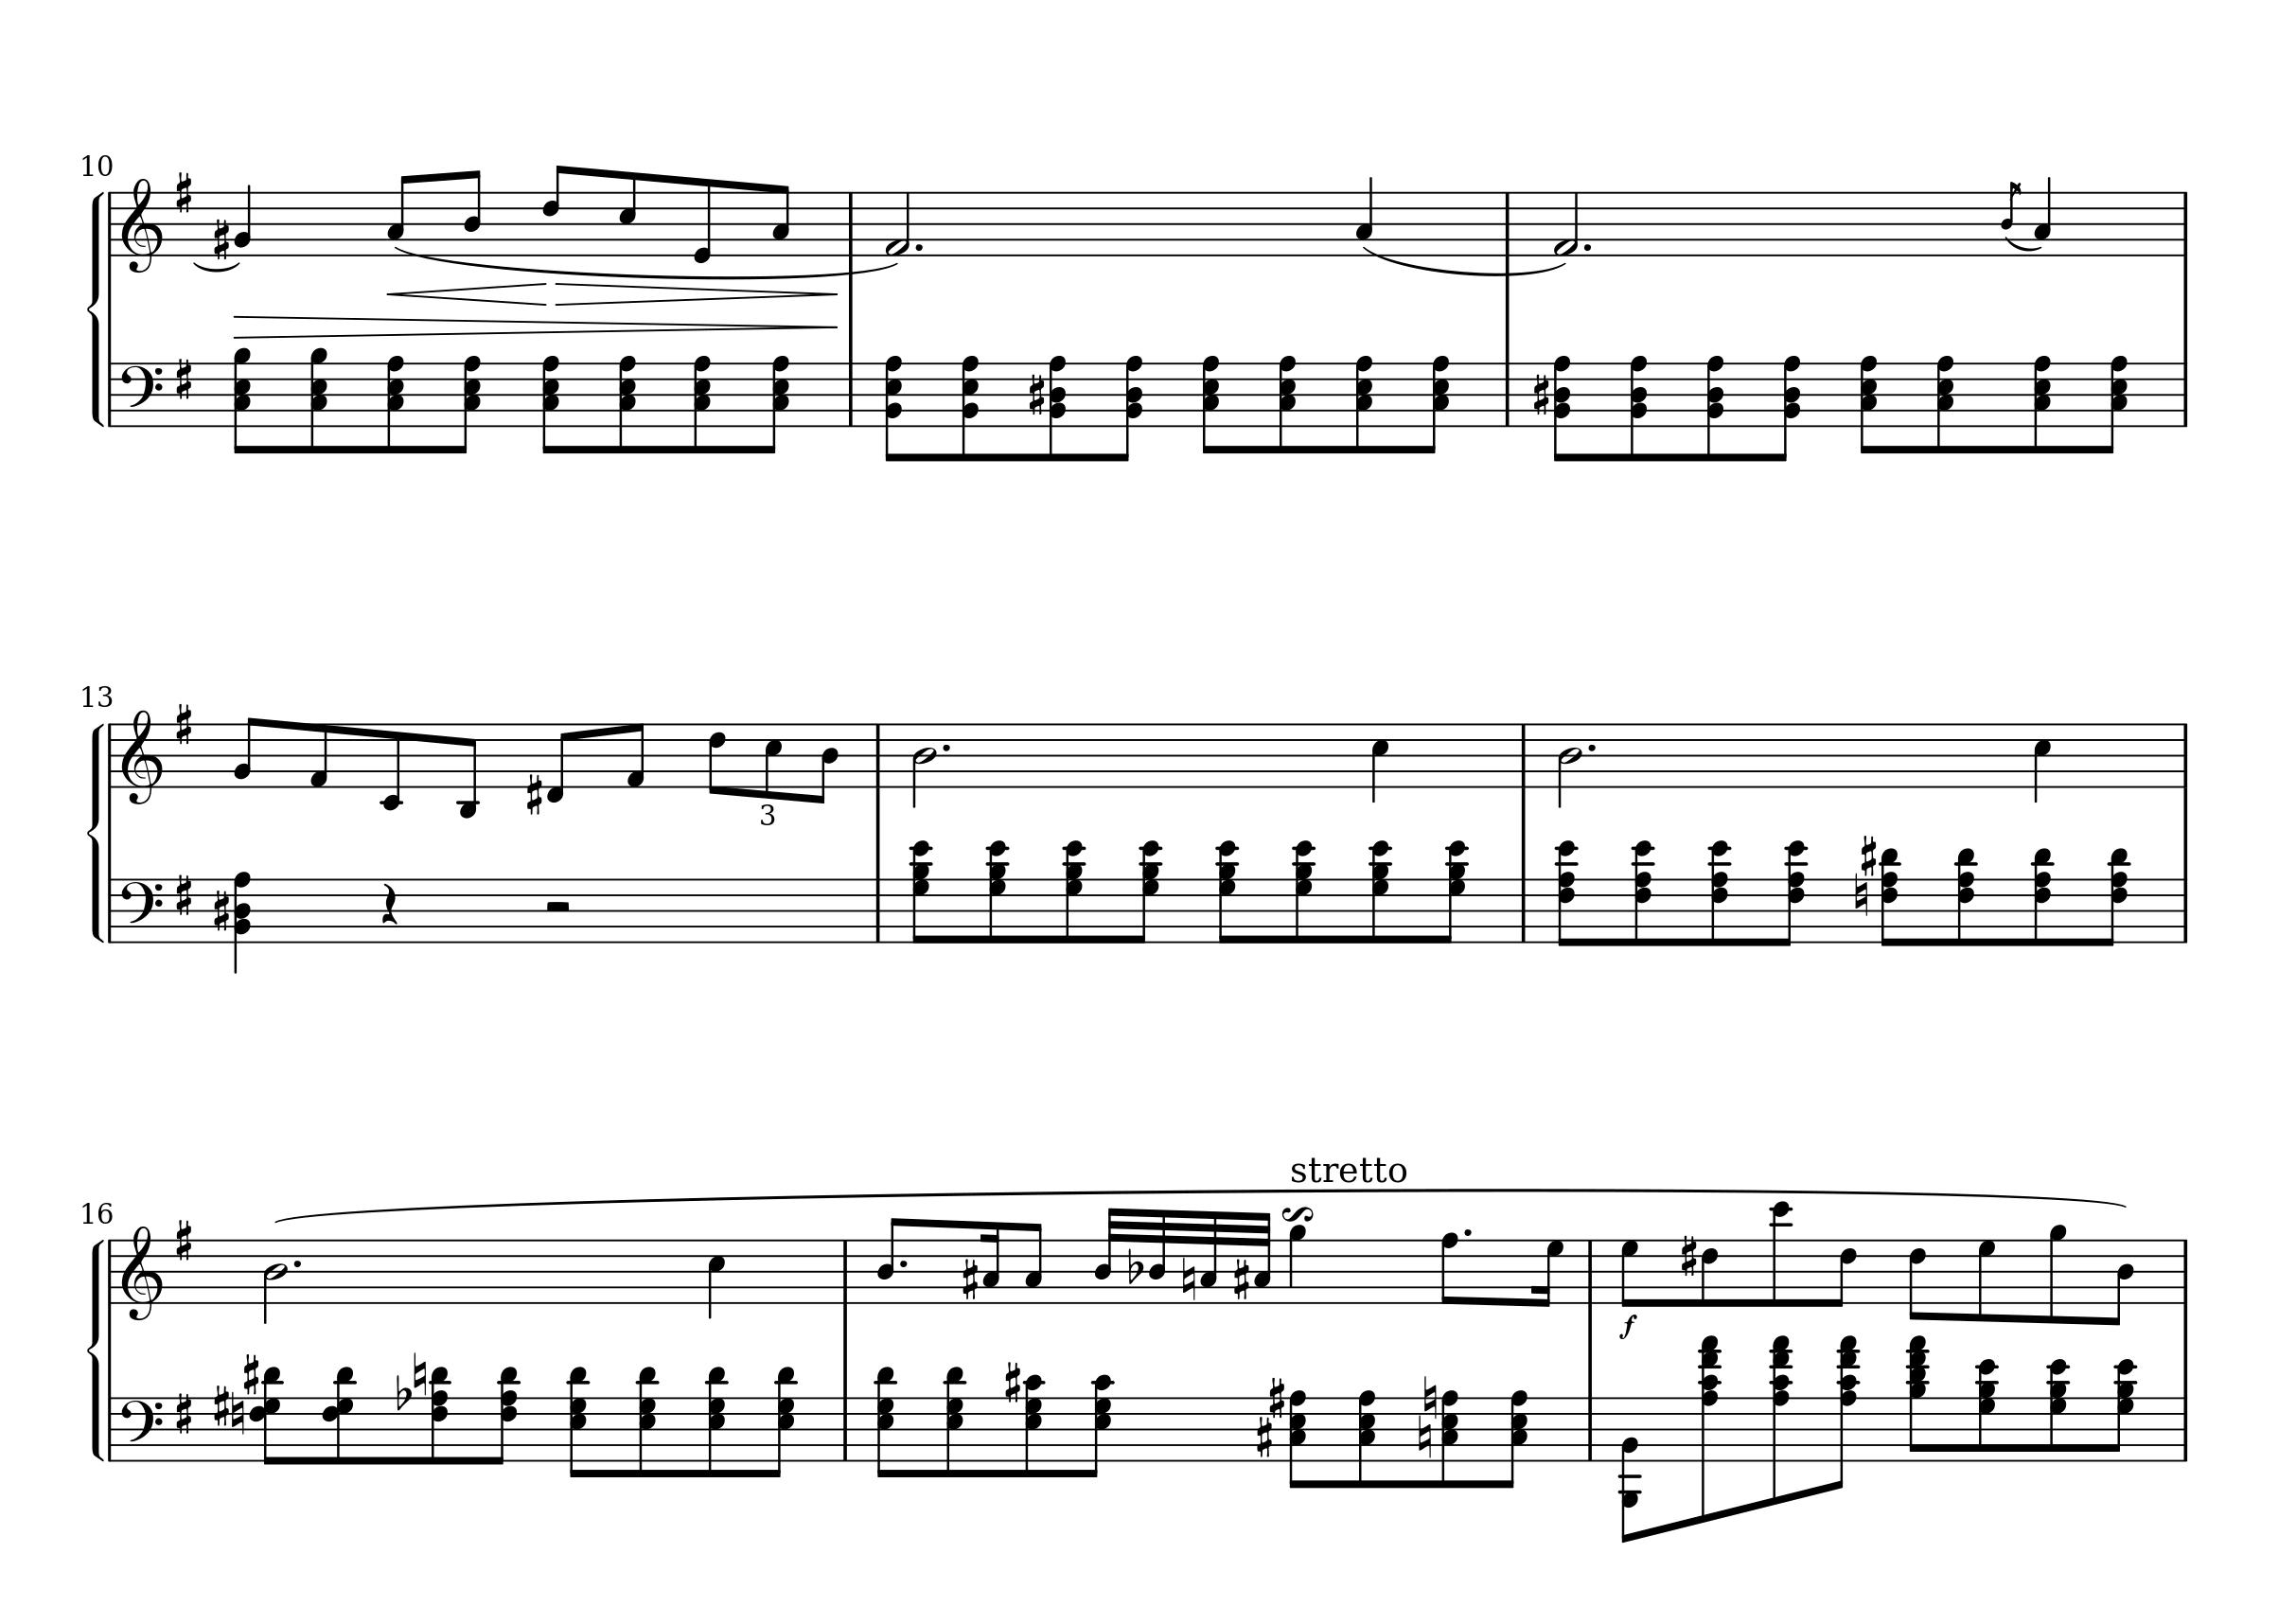0: (97, 149, 114, 178)
1: (79, 1197, 95, 1225), (79, 682, 93, 710), (79, 151, 93, 178)
16_3: (980, 1220, 1001, 1302), (1022, 1218, 1042, 1304)
16_7: (1532, 1236, 1563, 1308)
2_1: (1551, 188, 1581, 257), (884, 188, 912, 257)
2_4: (1555, 719, 1585, 808), (262, 1236, 290, 1325), (910, 721, 936, 808)
3: (757, 801, 776, 828), (97, 682, 114, 708)
32_3: (1200, 1209, 1217, 1306), (1254, 1211, 1272, 1306)
32_4: (1091, 1207, 1119, 1304), (1147, 1207, 1166, 1308)
4_2: (234, 181, 253, 260)
4_3: (2032, 176, 2055, 257), (1353, 174, 1374, 257)
4_5: (704, 1236, 727, 1320), (1370, 719, 1390, 803), (2032, 719, 2052, 803)
4_9: (1286, 1223, 1309, 1302)
4_th: (230, 870, 251, 974)
6: (97, 1197, 114, 1225)
8_-1: (545, 721, 573, 801)
8_-2: (379, 721, 404, 810)
8_-3: (457, 721, 480, 819)
8_-5_2: (1614, 1394, 1643, 1545)
8_0: (690, 176, 713, 265)
8_1: (307, 721, 330, 789), (624, 721, 646, 789)
8_12: (1769, 1197, 1792, 1308)
8_2: (232, 714, 262, 789)
8_3: (385, 172, 411, 257), (769, 181, 791, 257)
8_4: (2106, 1236, 2136, 1325), (875, 1214, 903, 1304), (810, 721, 838, 805), (460, 167, 483, 257)
8_4th: (1823, 1332, 1862, 1496), (1695, 1332, 1723, 1524), (1767, 1330, 1794, 1508), (1904, 1332, 1932, 1461)
8_5: (617, 169, 638, 257), (762, 721, 782, 800)
8_6: (539, 162, 567, 257), (1830, 1236, 1859, 1308), (1908, 1236, 1927, 1322), (706, 721, 726, 796), (1700, 1236, 1718, 1308)
8_7: (1976, 1237, 1999, 1323), (1620, 1236, 1641, 1308)
8_8: (1439, 1230, 1460, 1306)
8_9: (2047, 1222, 2068, 1323)
8_th: (766, 1360, 799, 1478), (321, 1364, 357, 1466), (1114, 350, 1145, 462), (632, 1362, 662, 1478), (251, 1362, 285, 1466), (1439, 835, 1470, 944), (1778, 837, 1809, 946), (1133, 837, 1165, 944), (1084, 1371, 1116, 1478), (1498, 1385, 1530, 1490), (873, 1360, 901, 1478), (703, 1362, 731, 1480), (566, 1362, 594, 1478), (942, 1362, 970, 1478), (1421, 352, 1453, 453), (2101, 844, 2133, 946), (1628, 837, 1658, 944), (761, 353, 792, 453), (906, 838, 936, 944), (2108, 1355, 2138, 1461), (1551, 352, 1579, 462), (1625, 352, 1653, 462), (1059, 837, 1089, 940), (1702, 352, 1730, 460), (492, 1362, 522, 1464), (1553, 838, 1581, 946), (453, 350, 481, 455), (984, 837, 1012, 942), (1214, 837, 1242, 942), (1367, 837, 1395, 942), (1706, 838, 1734, 944), (1973, 1355, 2001, 1461), (1021, 1373, 1049, 1478), (230, 343, 256, 453), (957, 352, 984, 462), (1045, 352, 1072, 462), (1274, 350, 1302, 453), (1289, 837, 1318, 940), (1198, 352, 1226, 453), (2029, 844, 2057, 946), (1952, 844, 1980, 944), (1878, 844, 1904, 947), (884, 352, 908, 462), (1776, 352, 1804, 448), (1351, 352, 1377, 453), (2045, 1357, 2071, 1459), (307, 344, 332, 453), (429, 1362, 453, 1466), (690, 352, 715, 453), (1286, 1387, 1310, 1487), (1439, 1387, 1463, 1487), (1354, 1387, 1379, 1487), (2031, 352, 2055, 448), (1932, 352, 1957, 446), (385, 352, 408, 453), (541, 352, 564, 453), (617, 352, 639, 453), (2106, 350, 2131, 427), (1855, 352, 1880, 427)
Acciaccature: (84, 190, 105, 425)
Appoggiature: (2001, 179, 2020, 257)
Brace: (84, 721, 105, 942), (86, 1236, 104, 1461)
Crescendo_hairpin: (386, 281, 546, 306)
Diminuendo_hairpin: (235, 315, 838, 339), (555, 281, 838, 304)
Fclef: (118, 1394, 165, 1461), (118, 360, 163, 427), (118, 877, 163, 944)
Flat: (393, 1371, 409, 1410), (1126, 1246, 1142, 1283)
Gclef: (119, 707, 165, 803), (119, 174, 163, 272), (119, 1222, 163, 1320)
Inverted_turn: (1281, 1204, 1316, 1223)
Natural: (1414, 1413, 1433, 1461), (411, 1348, 429, 1397), (1852, 872, 1869, 919), (228, 1387, 246, 1434), (1180, 1255, 1196, 1302), (1421, 1373, 1437, 1420)
Rests2: (541, 896, 573, 917)
Rests4: (378, 881, 399, 926)
Sharp: (172, 353, 195, 402), (174, 167, 197, 214), (1528, 371, 1551, 418), (174, 700, 197, 747), (211, 214, 232, 262), (522, 770, 543, 817), (172, 870, 193, 917), (1001, 1357, 1022, 1404), (1026, 371, 1045, 418), (211, 886, 230, 933), (174, 1216, 193, 1262), (241, 1350, 260, 1396), (1254, 1415, 1274, 1459), (1859, 833, 1878, 875), (1267, 1373, 1286, 1415), (961, 1257, 978, 1301), (1231, 1257, 1249, 1301), (1679, 1232, 1697, 1276), (176, 1392, 193, 1434), (213, 1385, 230, 1425)
Single_barline: (1498, 192, 1518, 265), (841, 190, 861, 258), (2175, 192, 2194, 255), (2175, 362, 2194, 425), (841, 362, 861, 425), (1498, 362, 1518, 425), (1514, 877, 1532, 942), (104, 722, 121, 786), (2175, 722, 2192, 786), (1514, 724, 1532, 787), (870, 879, 887, 942), (2175, 879, 2192, 942), (104, 879, 121, 942), (836, 1239, 854, 1302), (1581, 1239, 1599, 1302), (836, 1396, 854, 1459), (1581, 1397, 1599, 1461), (104, 362, 119, 427), (104, 1396, 119, 1461), (2177, 1396, 2192, 1461), (104, 192, 119, 255), (104, 1239, 119, 1302), (2177, 1239, 2192, 1302), (870, 724, 885, 786)
Slur: (395, 248, 898, 278), (2004, 234, 2043, 251), (191, 262, 242, 272)
dot: (1462, 1225, 1476, 1239), (940, 740, 952, 756), (1585, 740, 1597, 756), (290, 1257, 302, 1271), (898, 1257, 910, 1271), (913, 241, 924, 253), (1583, 241, 1593, 253)
f: (1616, 1311, 1641, 1339)
